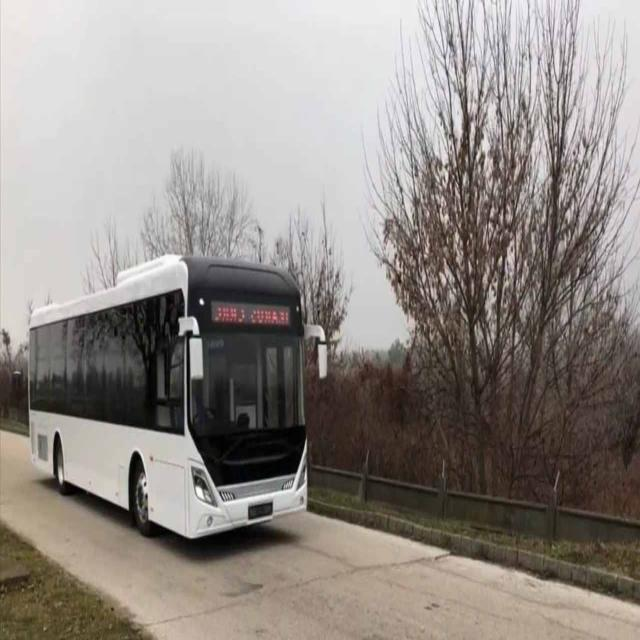bus: (27, 249, 331, 535)
